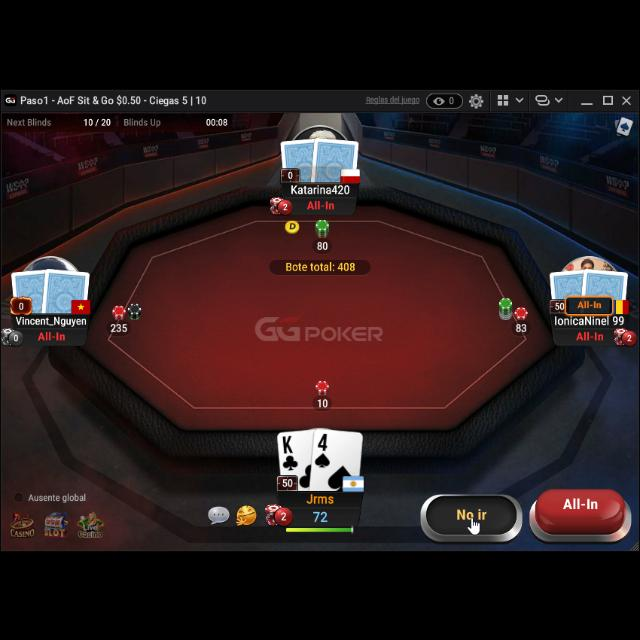4s: (312, 431, 334, 469)
Kc: (278, 432, 300, 472)
all_in_symbol: (306, 197, 336, 211), (574, 328, 604, 342), (36, 330, 66, 342)
bet_text: (109, 321, 129, 334), (514, 319, 528, 333), (316, 397, 332, 408), (316, 240, 329, 252)
card_back: (310, 134, 360, 188), (40, 266, 91, 314), (580, 266, 630, 312), (279, 134, 325, 182), (8, 268, 54, 314), (546, 266, 588, 304)
dealer: (284, 217, 302, 235)
pot_text: (285, 260, 357, 274)
stack_text: (310, 506, 332, 526)
